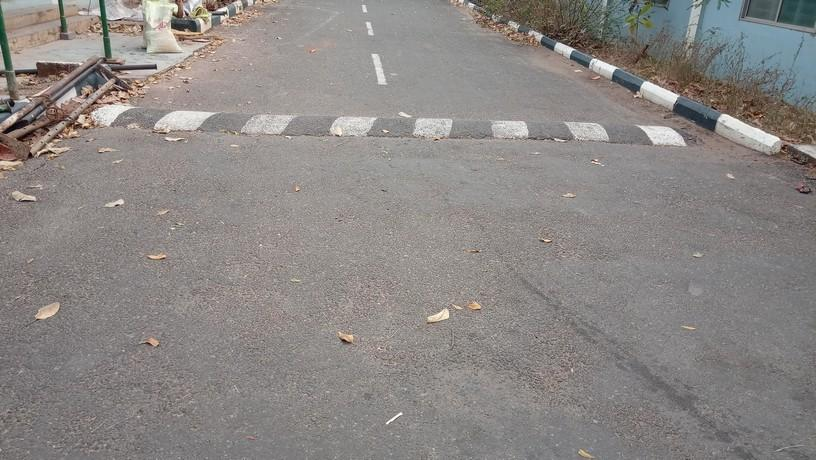speed-bump: (88, 100, 708, 146)
